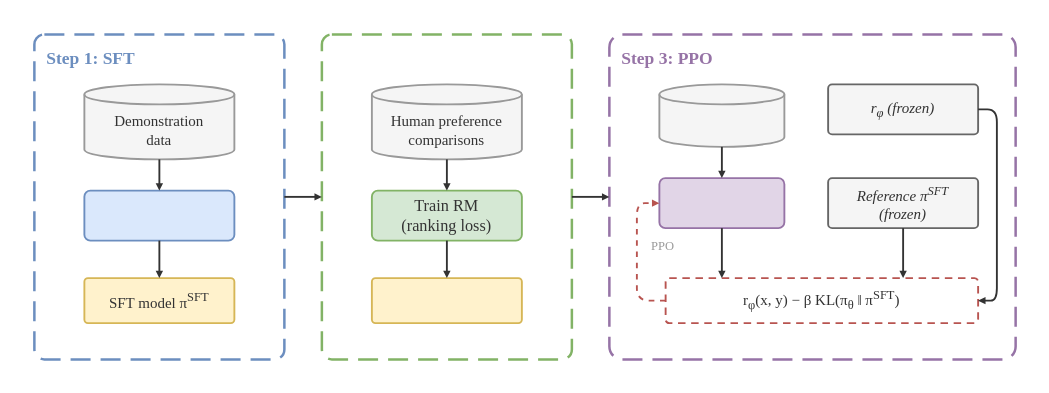
This 1049x393 diagram has some shape labels left out. Each missing label, with the box of its shape:
Policy π θ (init: SFT): (658, 177, 785, 228)
Prompts: (658, 83, 785, 147)
Reward model r φ: (370, 277, 522, 324)
Step 2: Reward Model: (320, 32, 572, 360)
Supervised fine-tuning: (83, 189, 235, 241)
